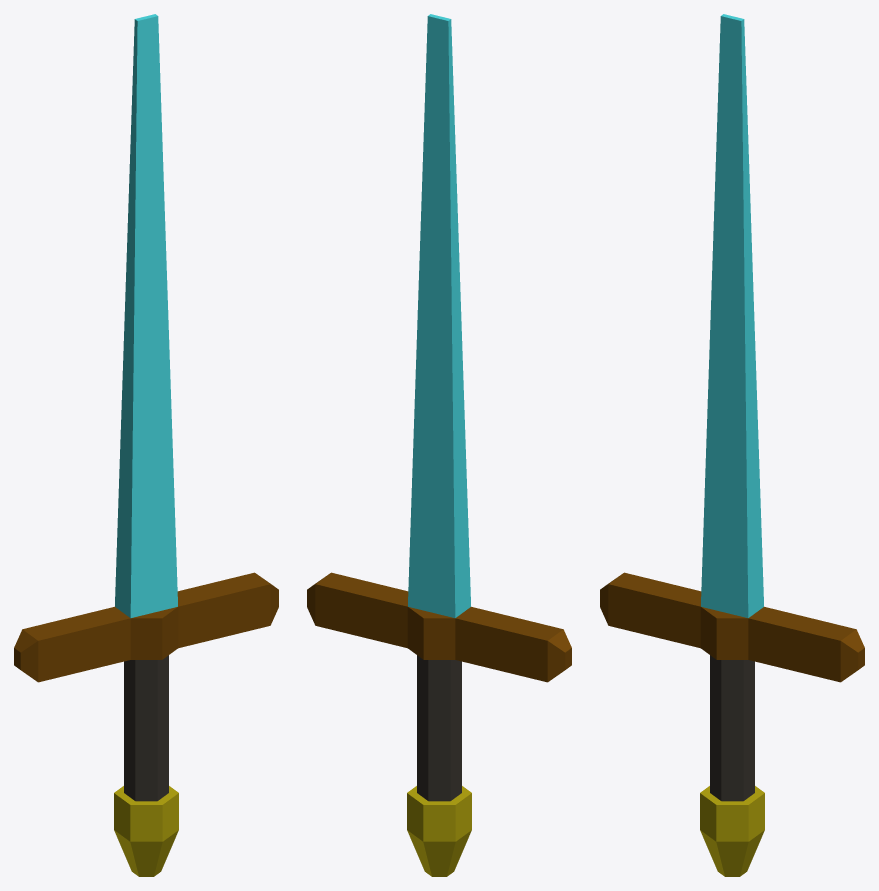
File: sword.obj
3 views of the same model, side by side, from view 1: azimuth 30°, elevation 25°; view 2: azimuth 150°, elevation 25°; view 3: azimuth 330°, elevation 25° (orthographic).
Visible parts, largest first — view 1: Cylinder.001; view 2: Cylinder.001; view 3: Cylinder.001.
Part boxes in pixels (<box>): Cylinder.001: <box>14,14,278,876</box>; Cylinder.001: <box>307,14,571,876</box>; Cylinder.001: <box>600,14,864,876</box>.
Bounding box in the file's own units: 2.42 × 7.65 × 0.5284.
1 material, 1 textured.
